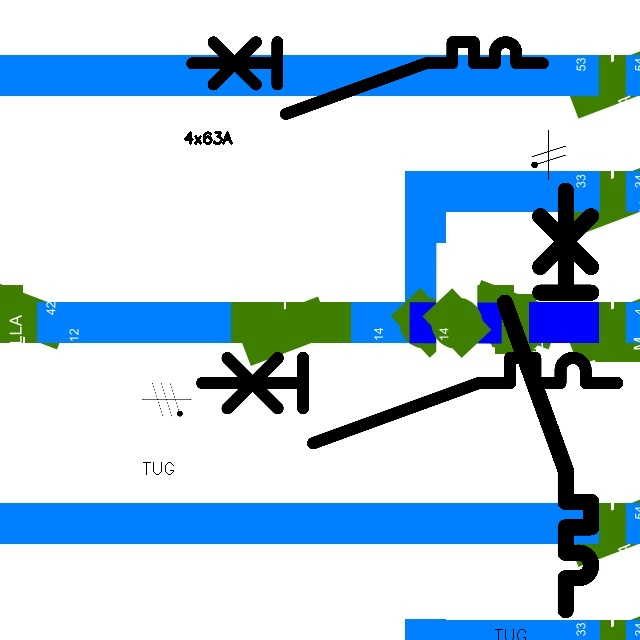interruptor_termomagnetico: (494, 179, 602, 620), (191, 347, 627, 454), (183, 33, 552, 123)
